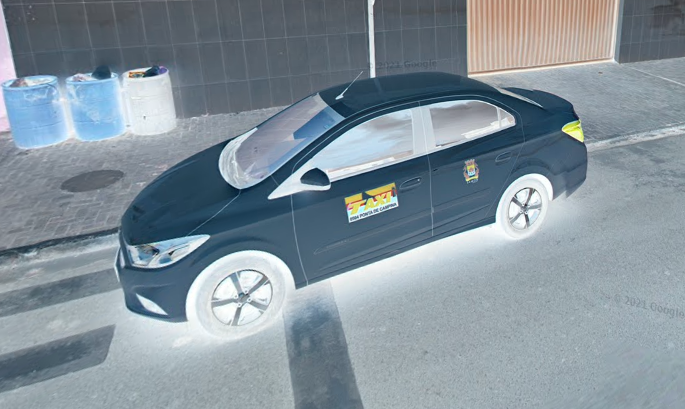car: (113, 67, 590, 348)
